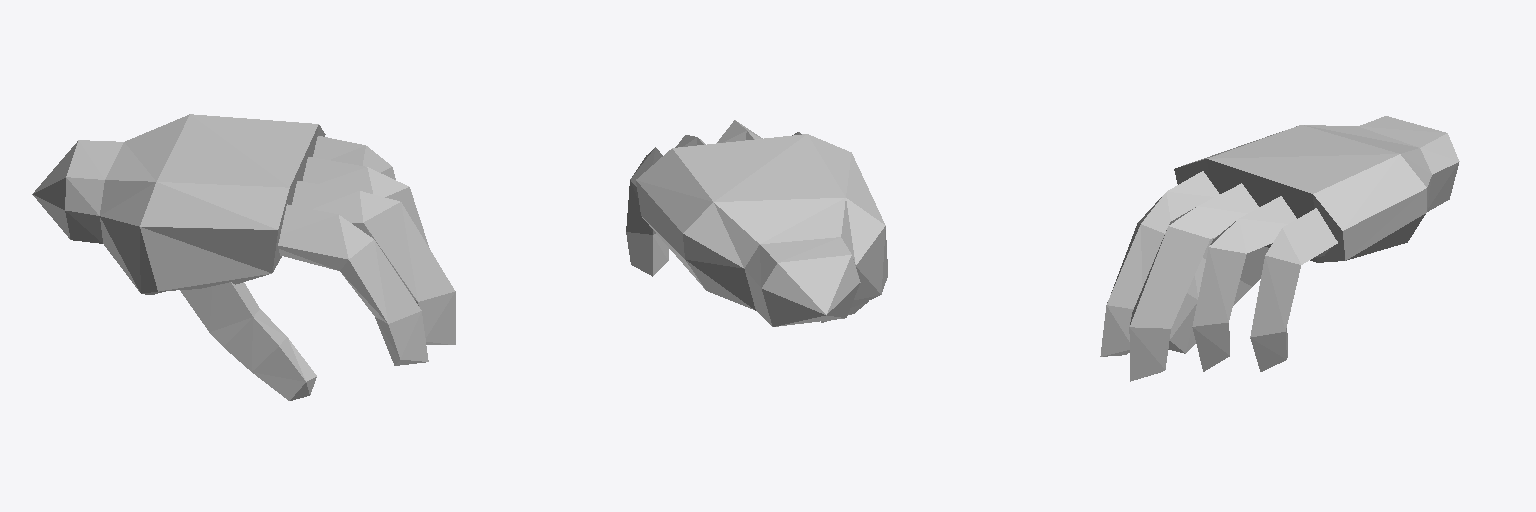
File: buzzlightyLeftHand.obj
3 views of the same model, side by side, from view 1: azimuth 30°, elevation 25°; view 2: azimuth 150°, elevation 25°; view 3: azimuth 270°, elevation 25° (orthographic).
Parts seen in each view (by area): view 1: buzzlightyLeftHand_buzzlighty.000; view 2: buzzlightyLeftHand_buzzlighty.000; view 3: buzzlightyLeftHand_buzzlighty.000.
Boxes of the visible parts, <box> form: buzzlightyLeftHand_buzzlighty.000: <box>32,114,455,400</box>; buzzlightyLeftHand_buzzlighty.000: <box>626,120,887,326</box>; buzzlightyLeftHand_buzzlighty.000: <box>1100,116,1459,381</box>.
Size of the model in its own units: 0.1068 by 0.0724 by 0.1173.